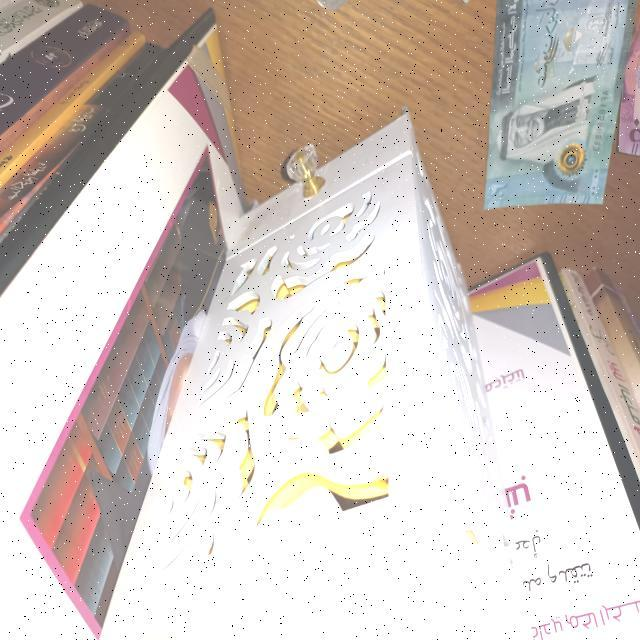20-dinar: (481, 0, 639, 215)
50-dinar: (615, 24, 640, 166)
